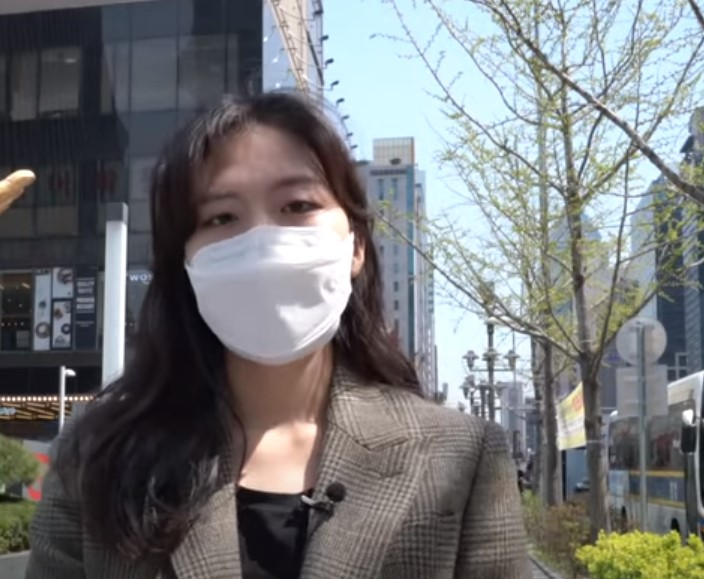face_with_mask: (173, 115, 370, 368)
